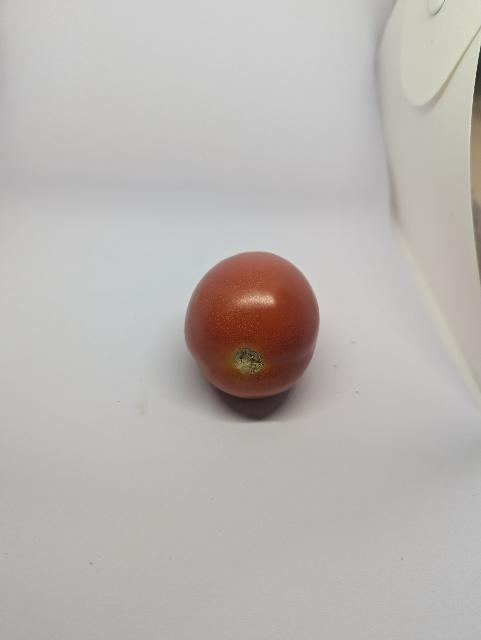red: (176, 242, 335, 425)
